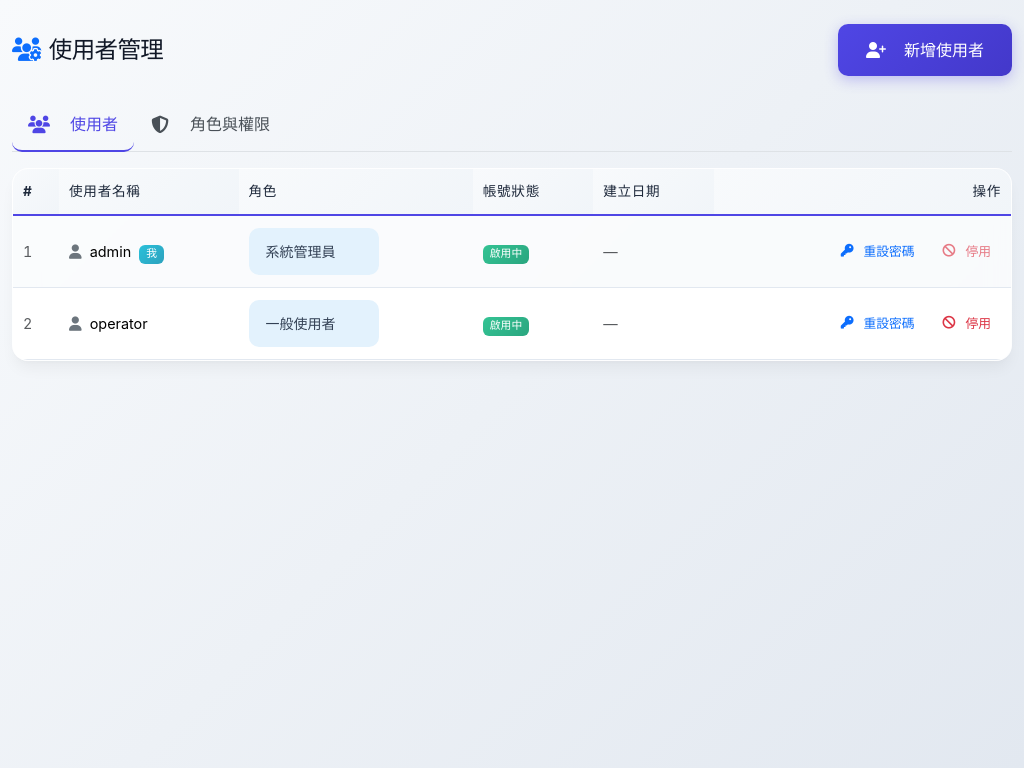
UserManagementPage 重設密碼 › 前端拒絕七字元密碼且不送出 mutation
The width and height of the screenshot is (1024, 768).
Click the button with aria-label "重設 operator 的密碼". click: x=878, y=324
box: [831,310,925,338]
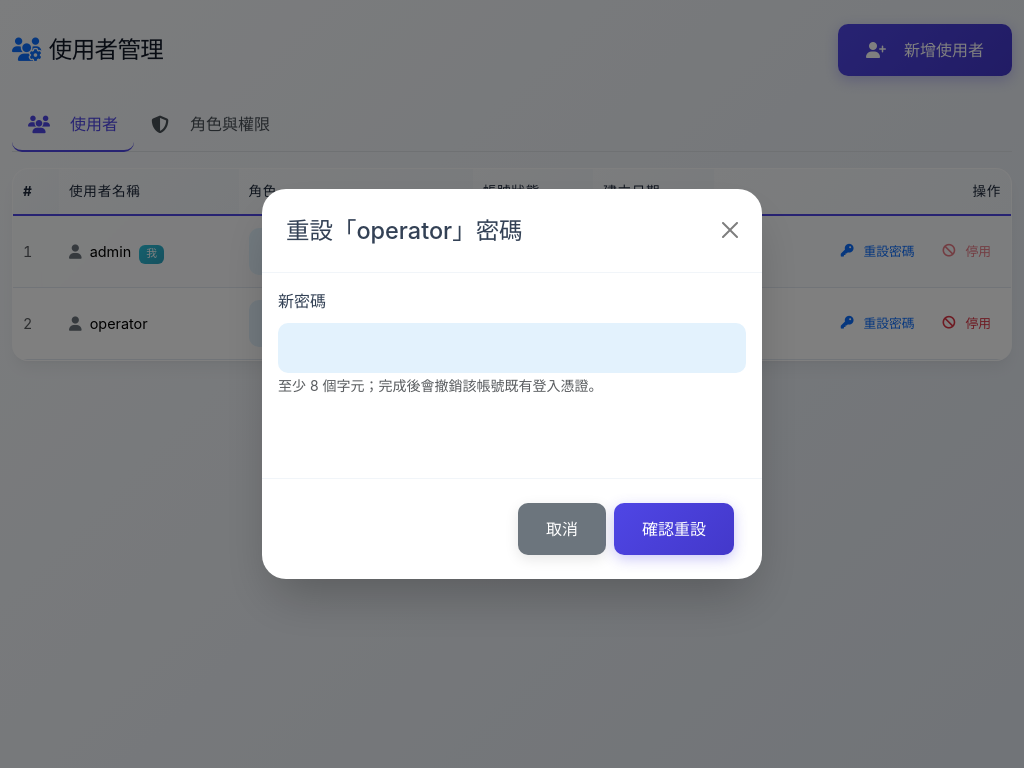
Type "1234567" into the password field labelled "新密碼". click: x=512, y=348
box: [278,323,746,373]
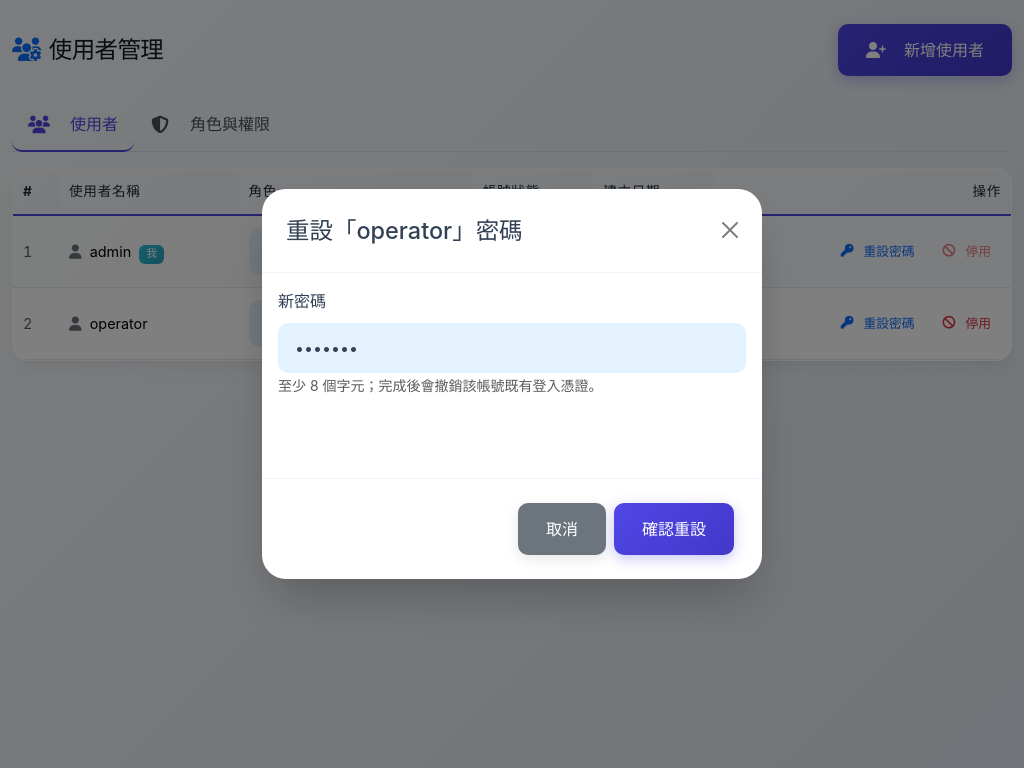
Submit the form named "重設密碼表單", box [278,289,746,398]
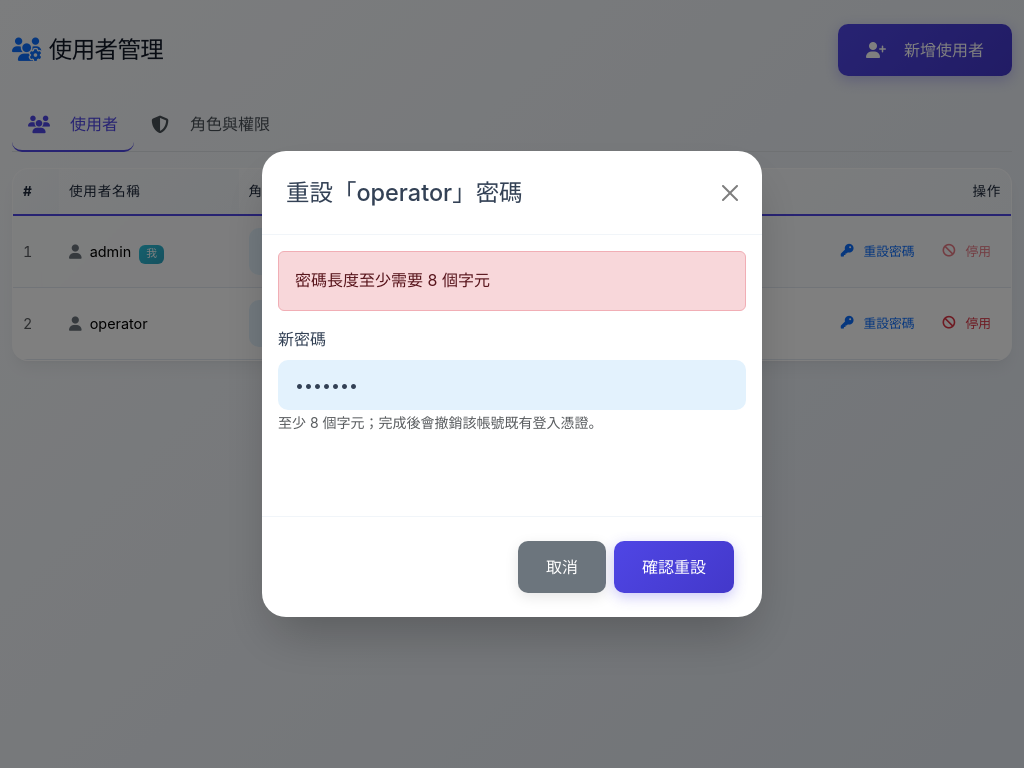
Check: the text "密碼長度至少需要 8 個字元" is shown, box [278,251,746,311]
